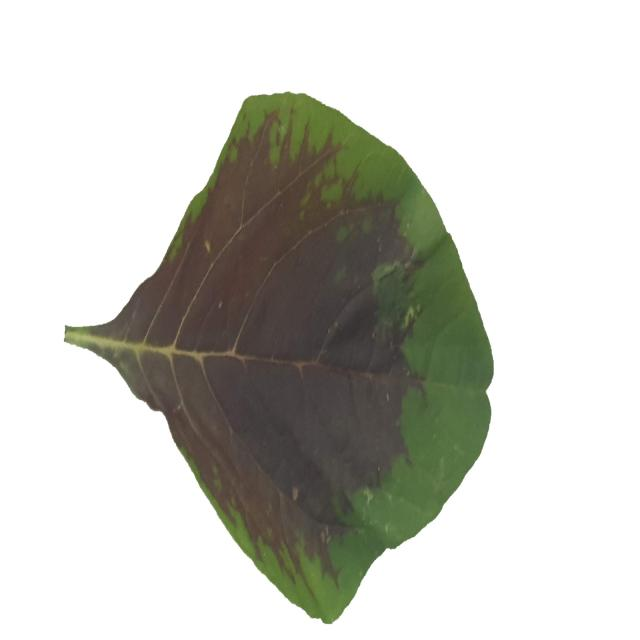Medicinal-Arive Dantu: (63, 91, 495, 624)
